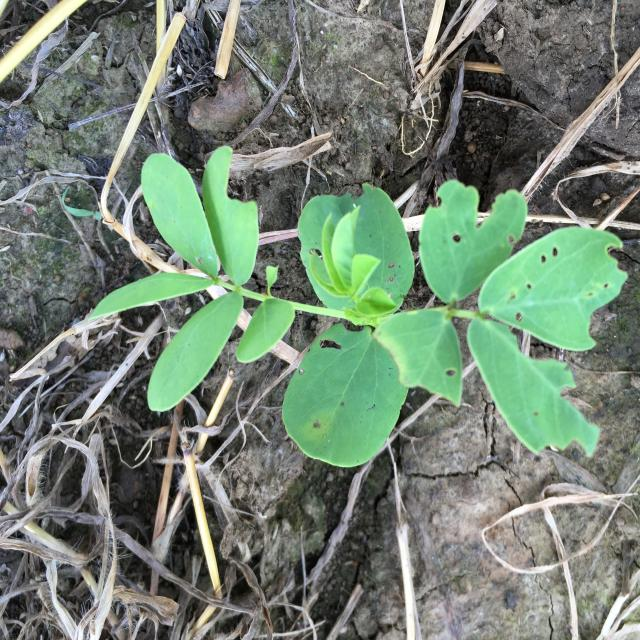Sicklepod: (88, 145, 628, 467)
